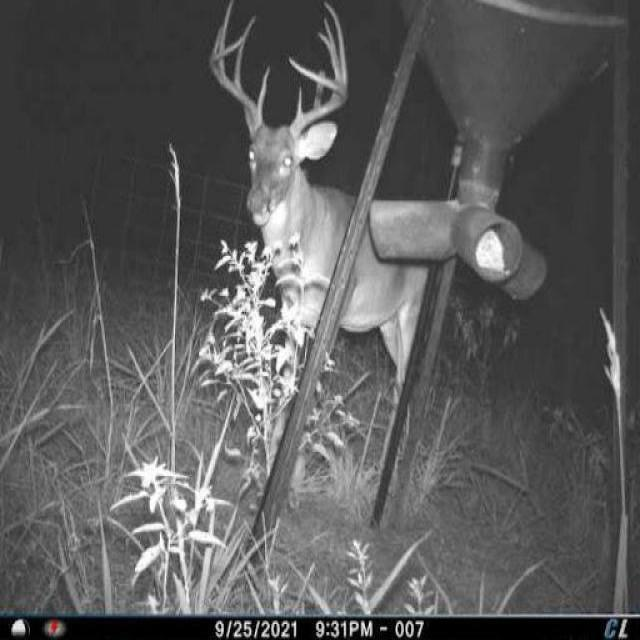deer: (202, 0, 436, 475)
